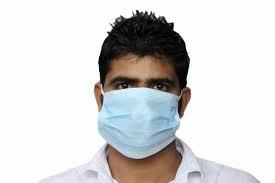mask: (97, 85, 183, 161)
